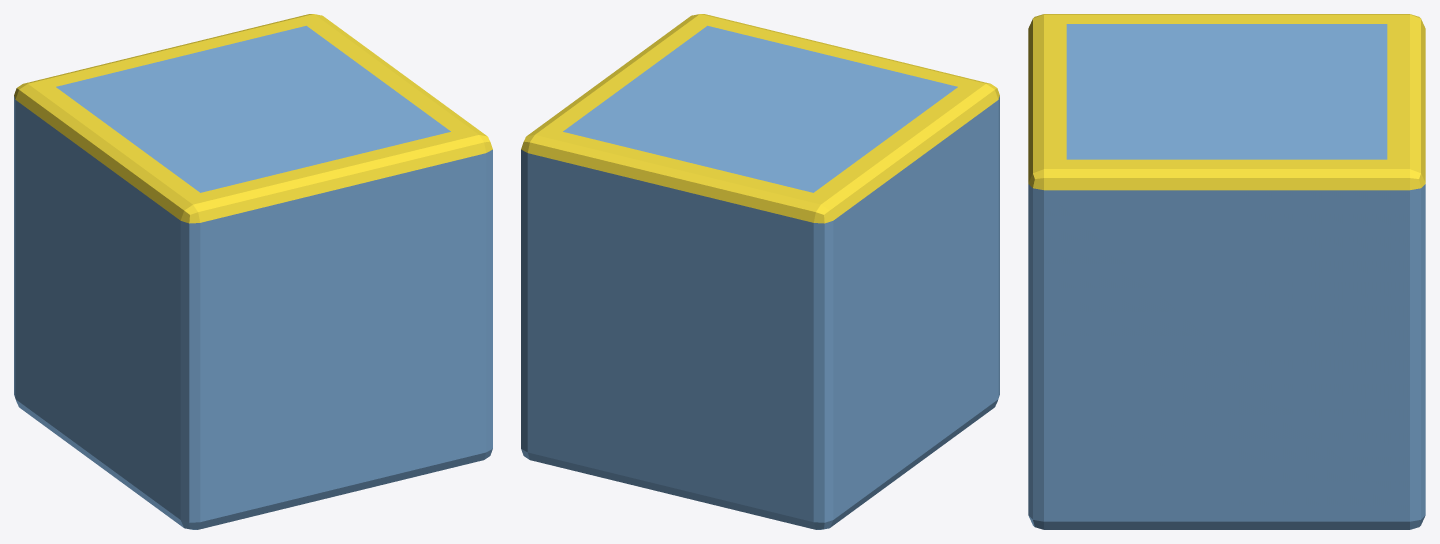
File: step.fbx
3 views of the same model, side by side, from view 1: azimuth 30°, elevation 25°; view 2: azimuth 150°, elevation 25°; view 3: azimuth 270°, elevation 25° (orthographic). The views are drawn at different scales.
Visible parts, largest first — view 1: step; view 2: step; view 3: step.
Boxes of the visible parts, x1=… form: step: x1=14, y1=14, x2=492, y2=529; step: x1=521, y1=14, x2=999, y2=529; step: x1=1028, y1=14, x2=1425, y2=529.
Size of the model in its own units: 1 by 1 by 1.
